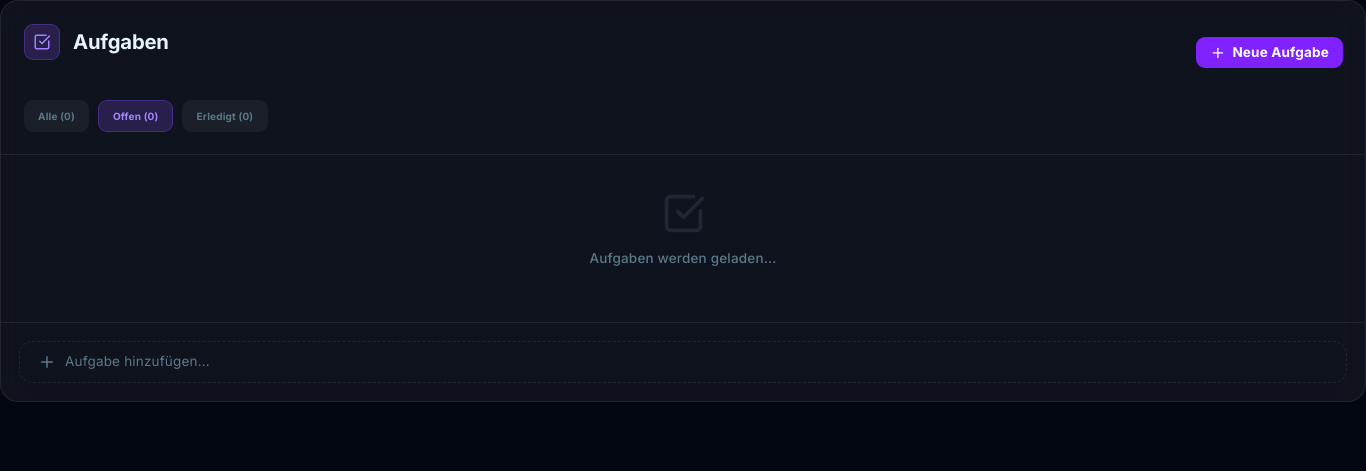
it: StaffTodoList › creates a todo and closes the add form
Click the button "Neue Aufgabe".
click(1269, 53)  # box [1196,37,1342,68]
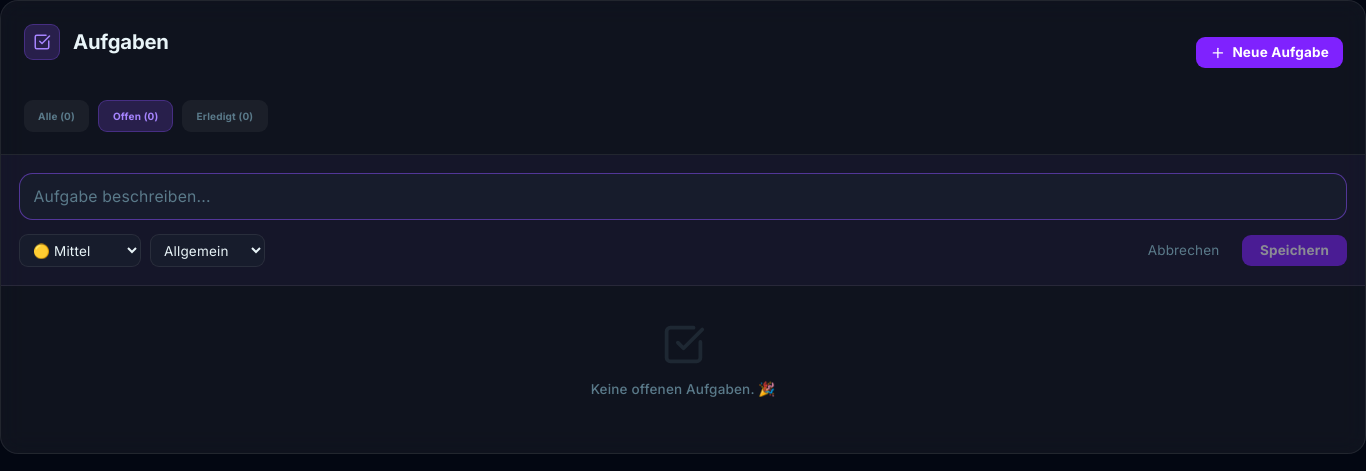
Type "Labor prüfen" into the field labelled "Aufgabe beschreiben...".
click(683, 197); type("Labor prüfen")  # box [19,173,1347,220]
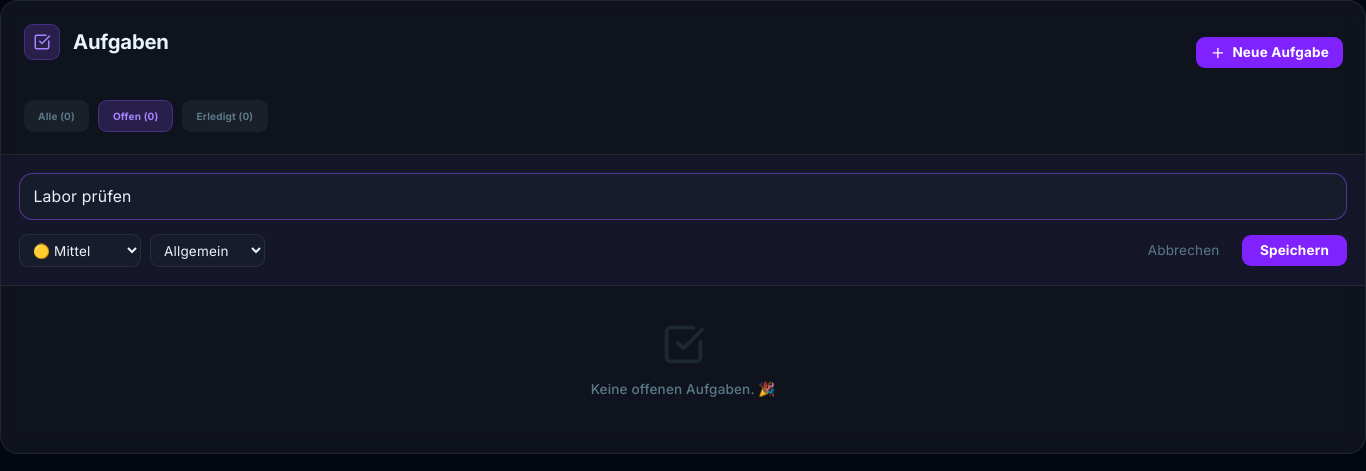
Click the button "Speichern".
click(1294, 251)  # box [1242,235,1347,266]
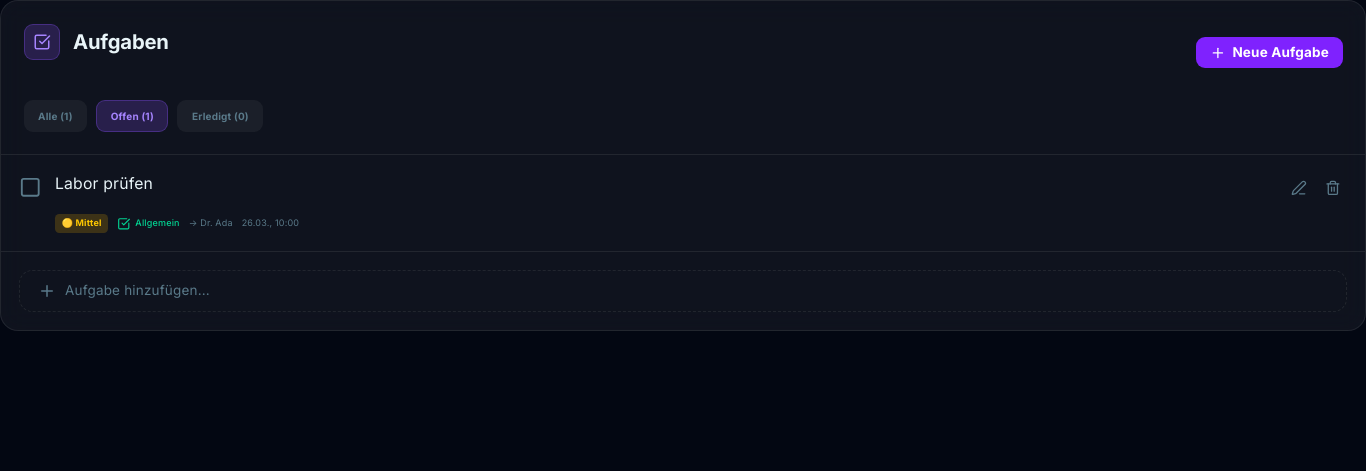
Expected: the field labelled "Aufgabe beschreiben..." is not shown
Result: the text "Labor prüfen" is shown at [55,174,153,193]
Result: the text "→ Dr. Ada" is shown at [189,216,233,231]
